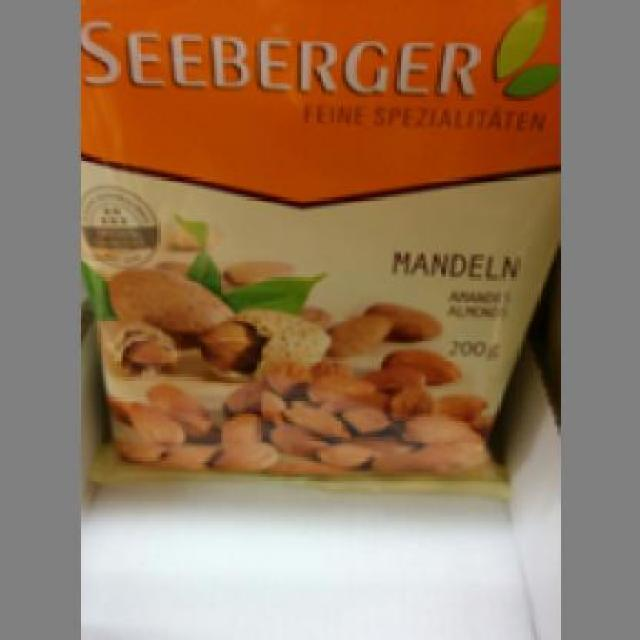Nuts: (77, 0, 554, 489)
